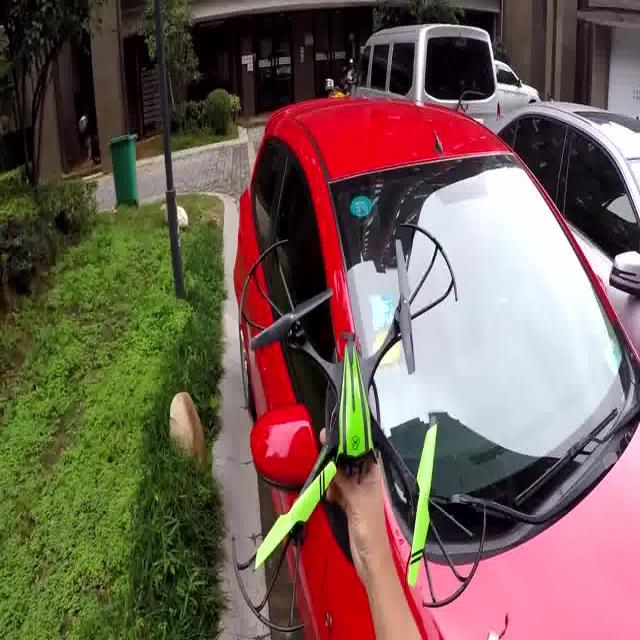drones: (228, 214, 492, 636)
